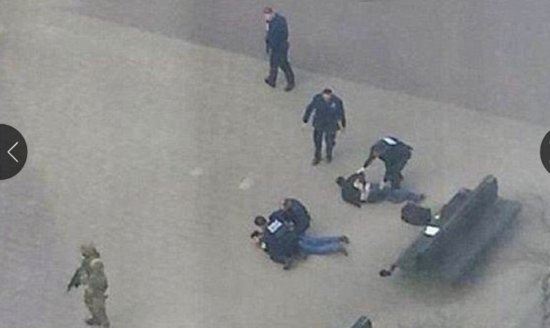falling: (243, 216, 353, 272)
